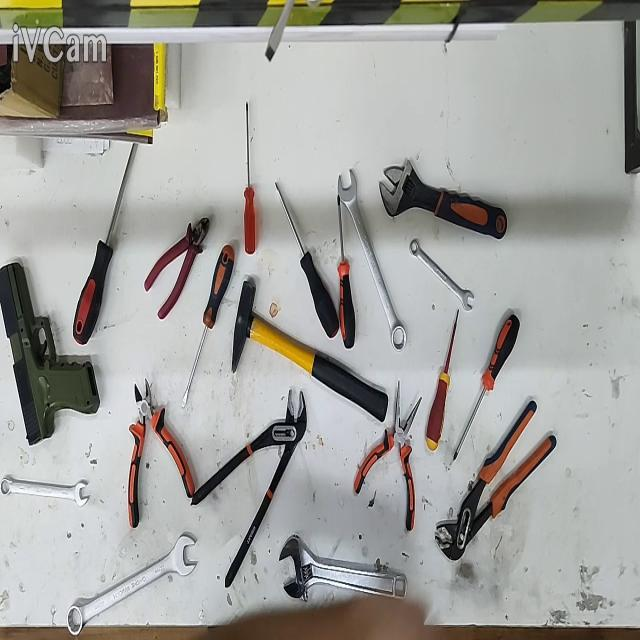Screwdriver: (72, 142, 137, 344), (274, 182, 340, 338), (454, 313, 520, 461), (180, 245, 235, 406), (426, 309, 459, 451), (337, 195, 355, 349), (244, 102, 255, 254)
